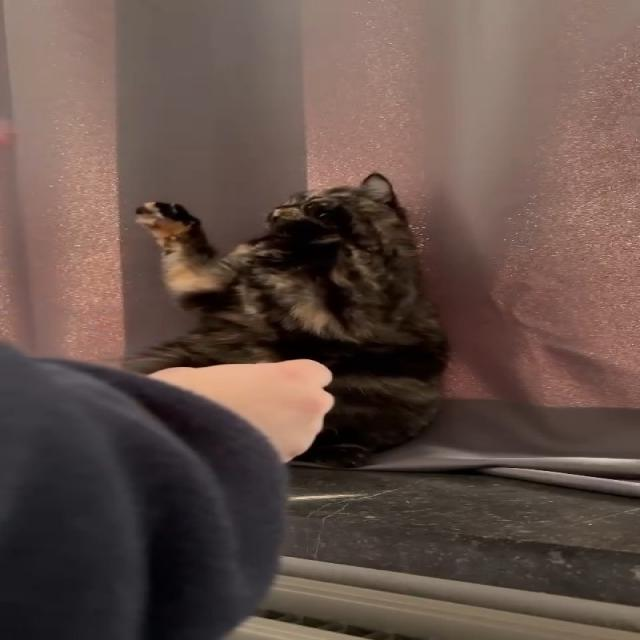authorized: (120, 170, 451, 468)
